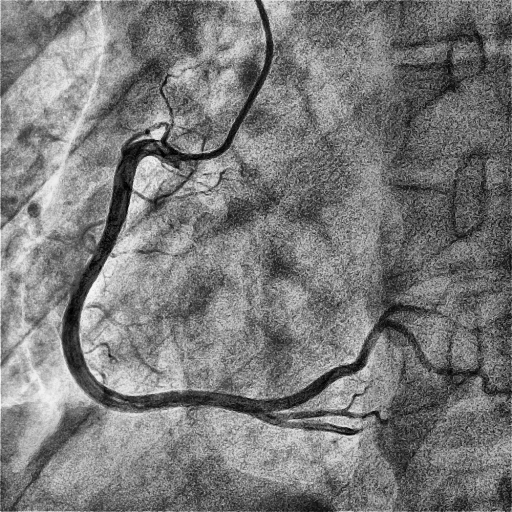pborca: (266, 319, 476, 412)
pda: (261, 412, 369, 436)
rca: (62, 139, 266, 420)
